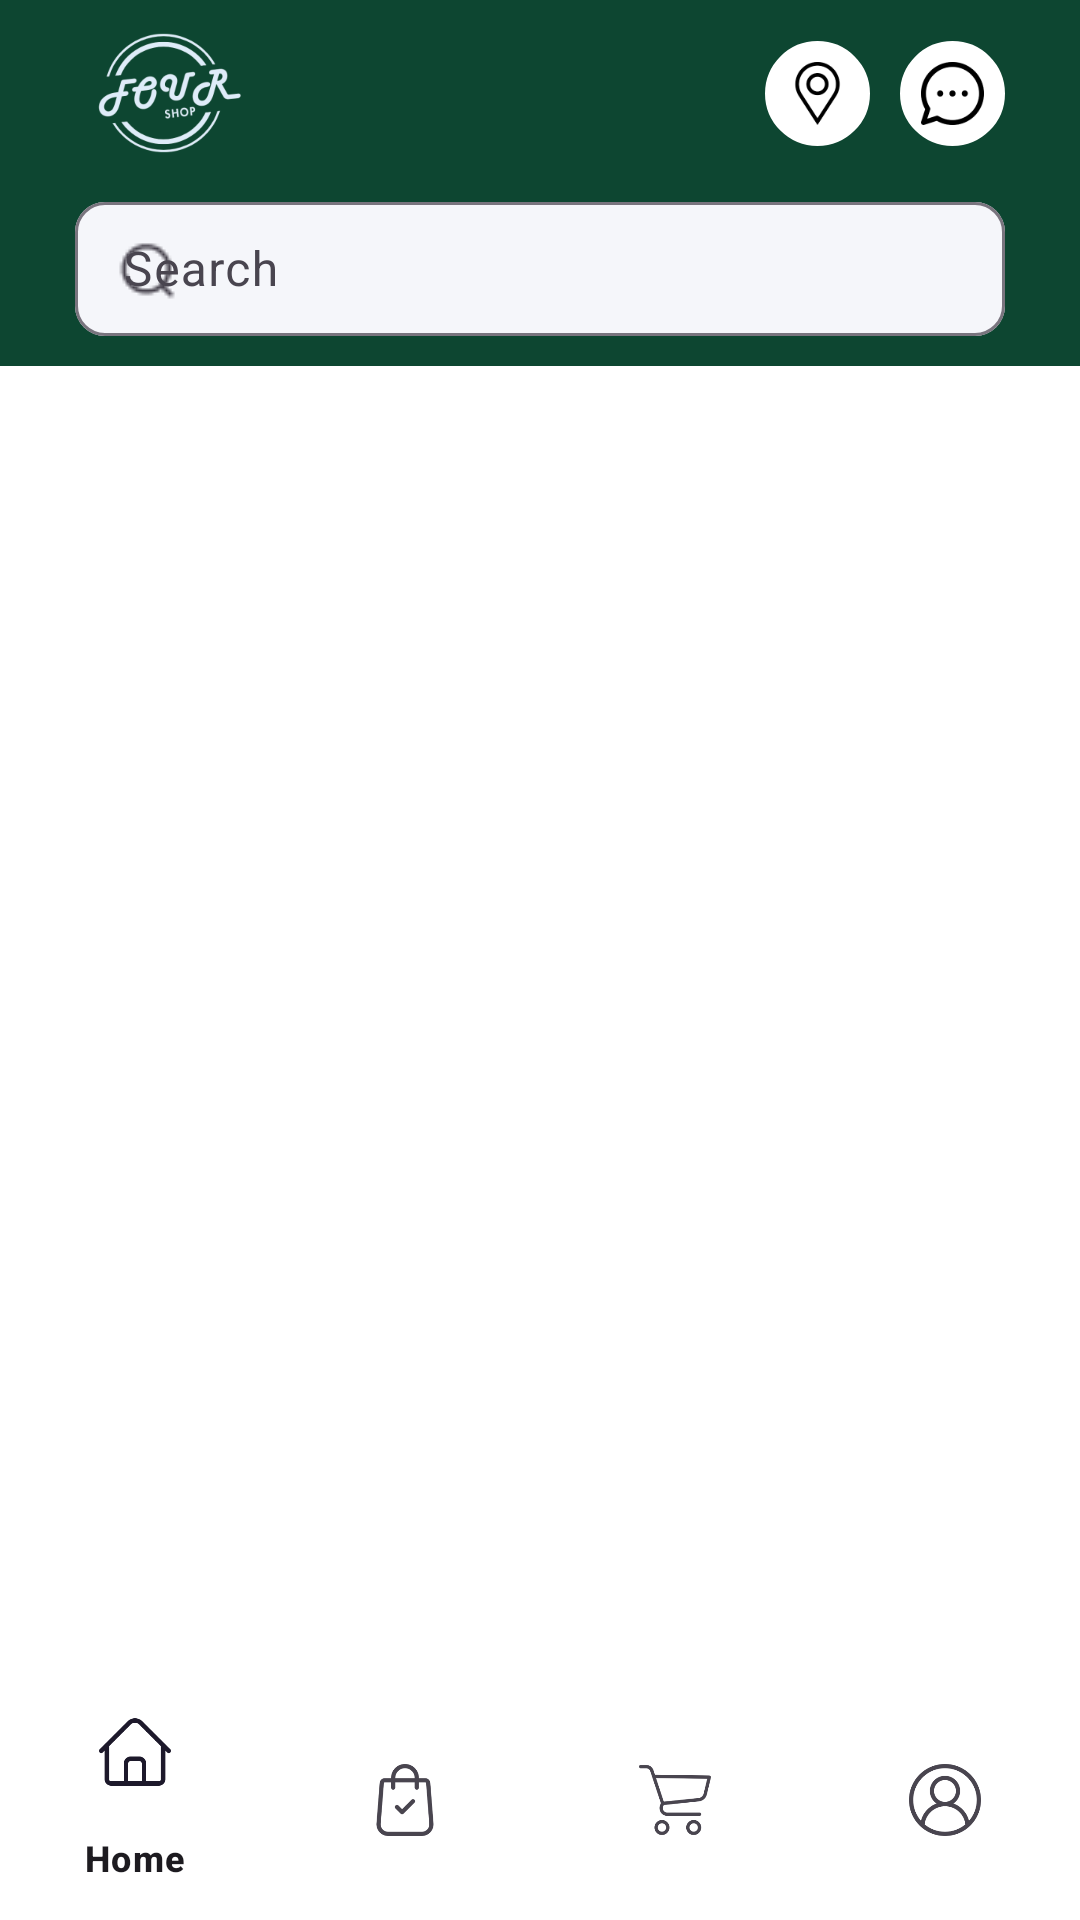

Icon bounding boxes for this 1080w x 1920h phone screenshot, format {"x1": x1, "y1": y1, "x2": x2, "y2": y2}:
location: {"x1": 765, "y1": 41, "x2": 870, "y2": 146}
messenger: {"x1": 900, "y1": 41, "x2": 1005, "y2": 146}
